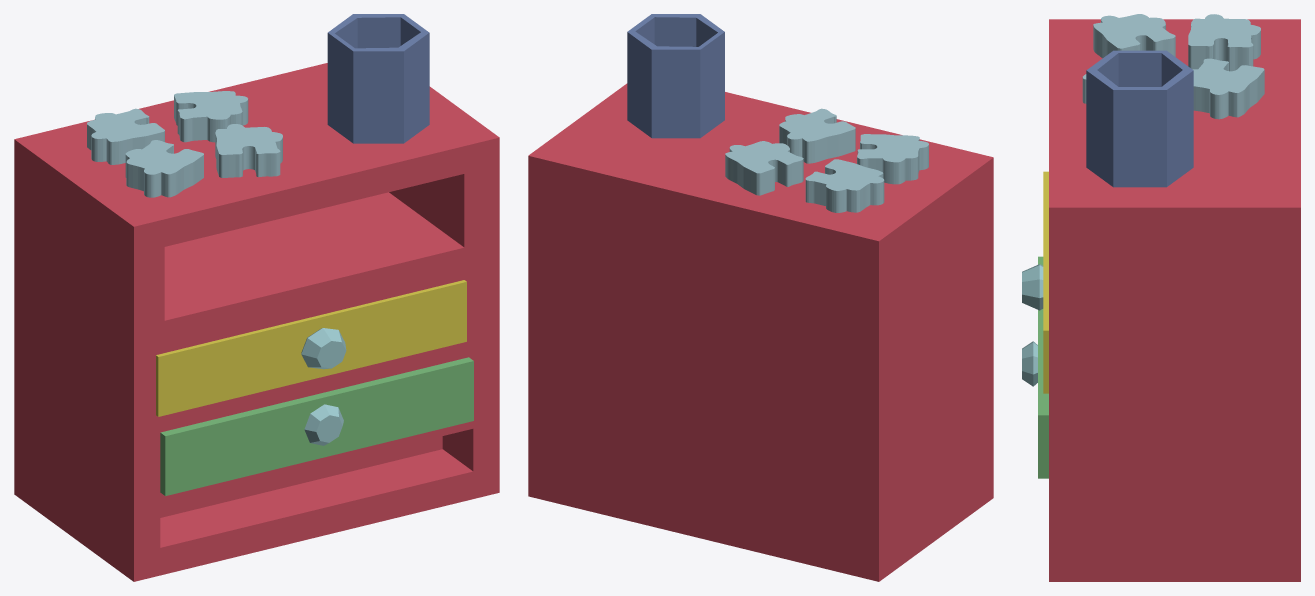
The model's file is Project 149.glb.
3 views of the same model, side by side, from view 1: azimuth 30°, elevation 25°; view 2: azimuth 150°, elevation 25°; view 3: azimuth 270°, elevation 25° (orthographic). The views are drawn at different scales.
Visible parts, largest first — view 1: Mesh_Mesh_head_geo.001_lambert2SG.001; view 2: Mesh_Mesh_head_geo.001_lambert2SG.001; view 3: Mesh_Mesh_head_geo.001_lambert2SG.001.
Boxes of the visible parts, x1,y1,x2,y2 form: Mesh_Mesh_head_geo.001_lambert2SG.001: [14, 14, 499, 581]; Mesh_Mesh_head_geo.001_lambert2SG.001: [528, 14, 993, 581]; Mesh_Mesh_head_geo.001_lambert2SG.001: [1022, 14, 1300, 581].
Bounding box in the file's own units: 83 × 97 × 52.
